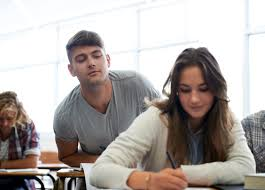student: (107, 44, 253, 176)
studentcopying: (33, 31, 159, 132)
